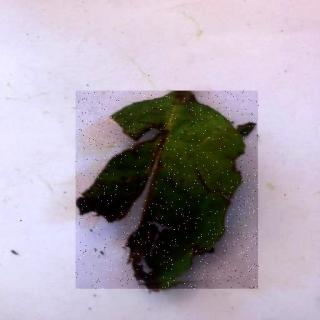Brown Blight: (78, 92, 261, 291)
